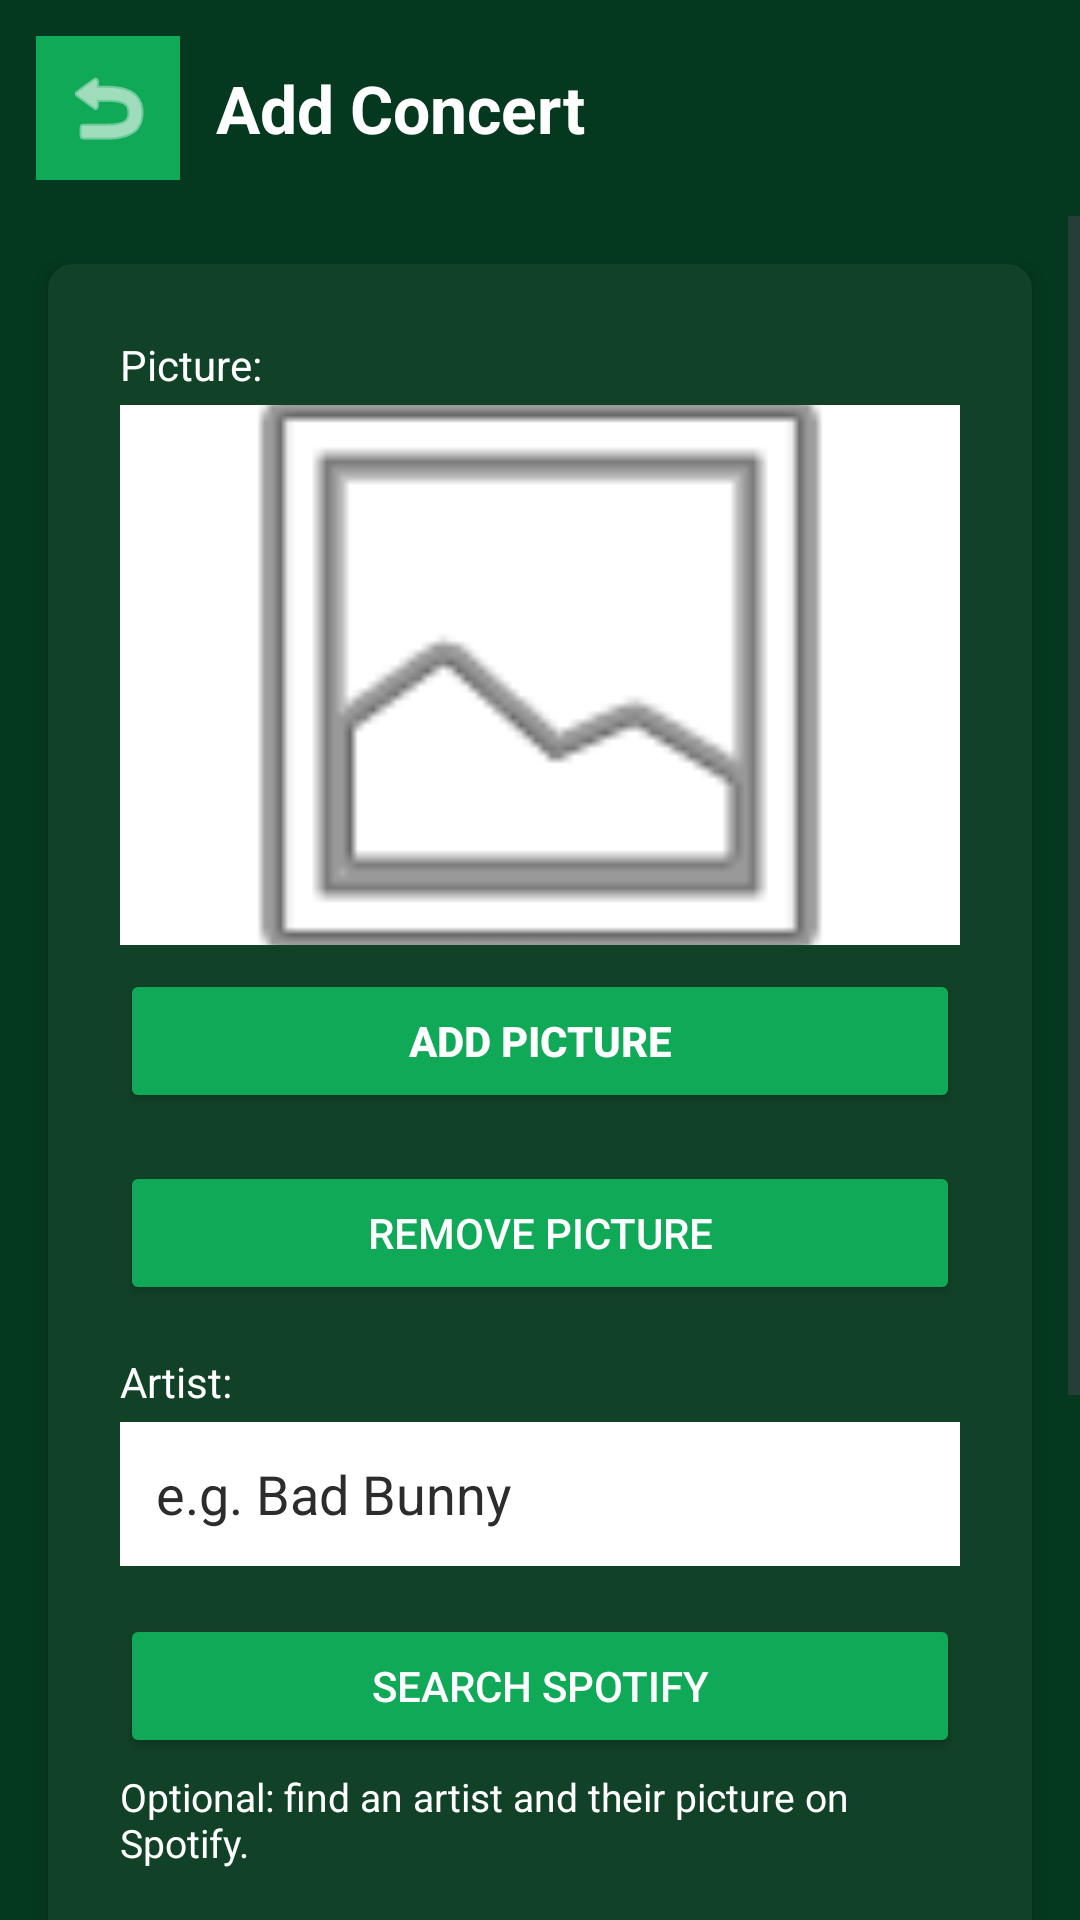

Locate icon controls on the screen. Image size 1080x1920, boxes as (left=x1, top=y1, right=x2, bottom=y2).
Back: (left=36, top=36, right=180, bottom=180)
